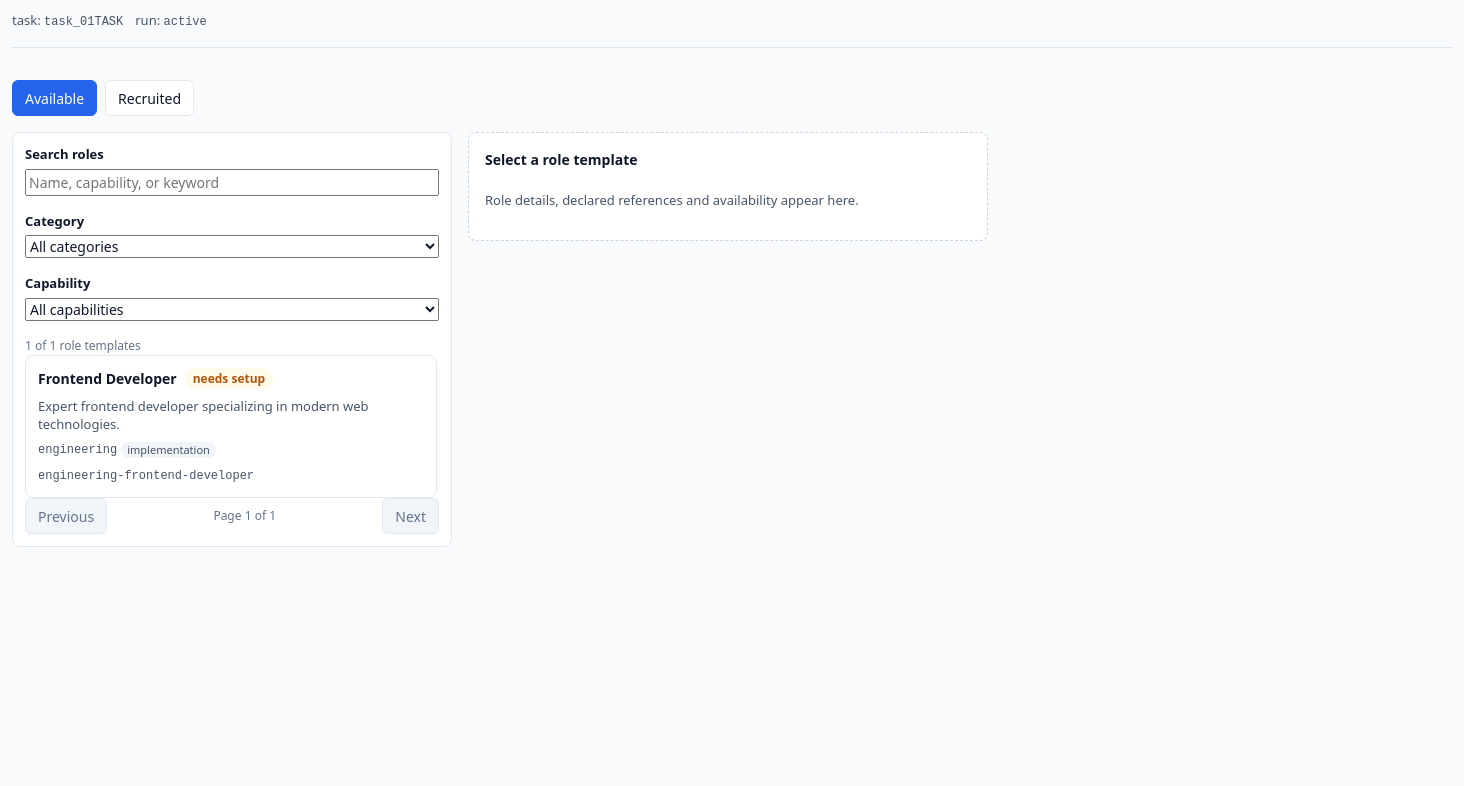
Test: LG-120 complete Available role library › distinguishes a recruitable role that still needs a connection from unsupported
Click the button "Frontend Developer".
click(107, 378)  # box [25,354,437,498]
(page scrolled)
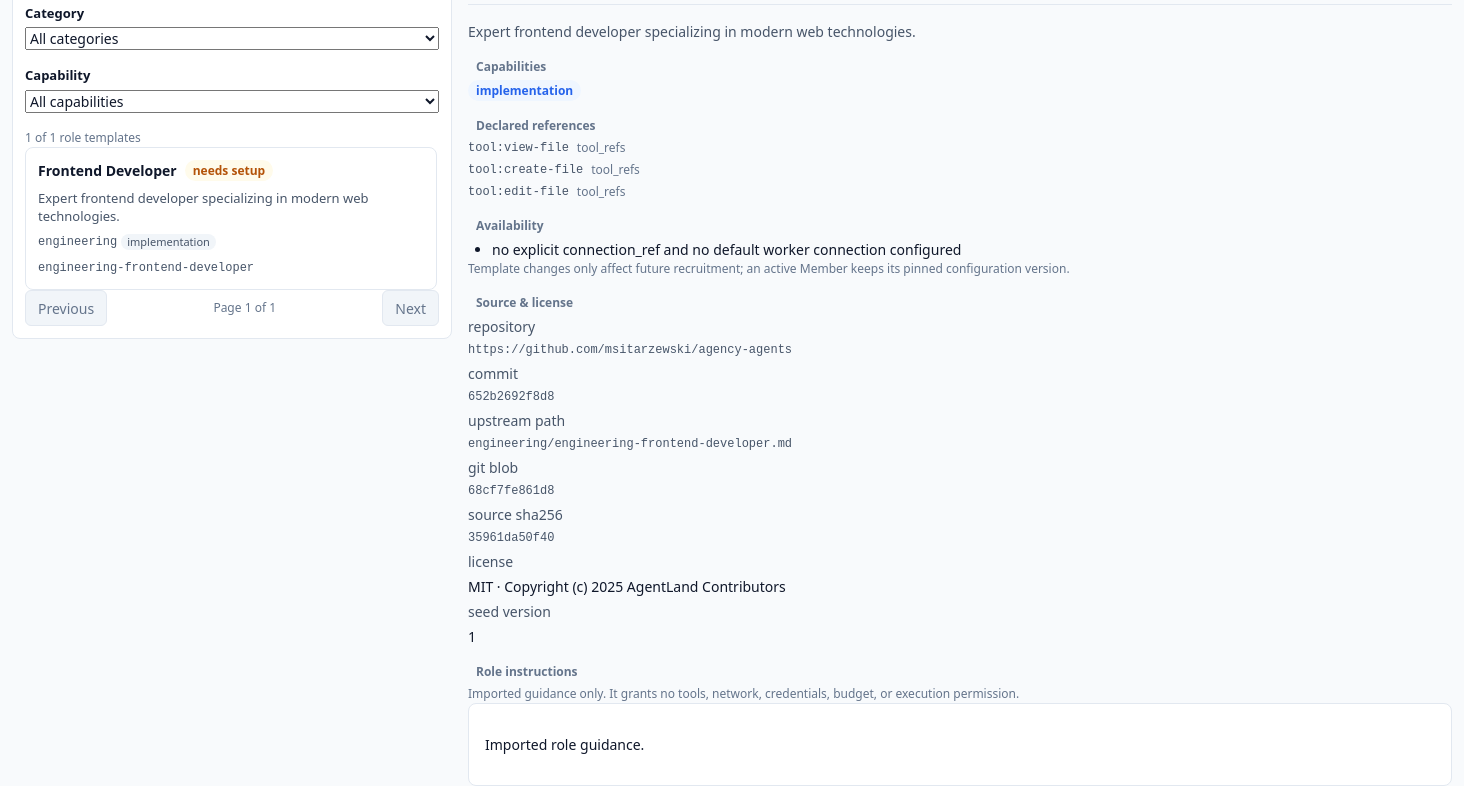
Expected: the text "Imported guidance only" is shown, [468,685,1019,702]
